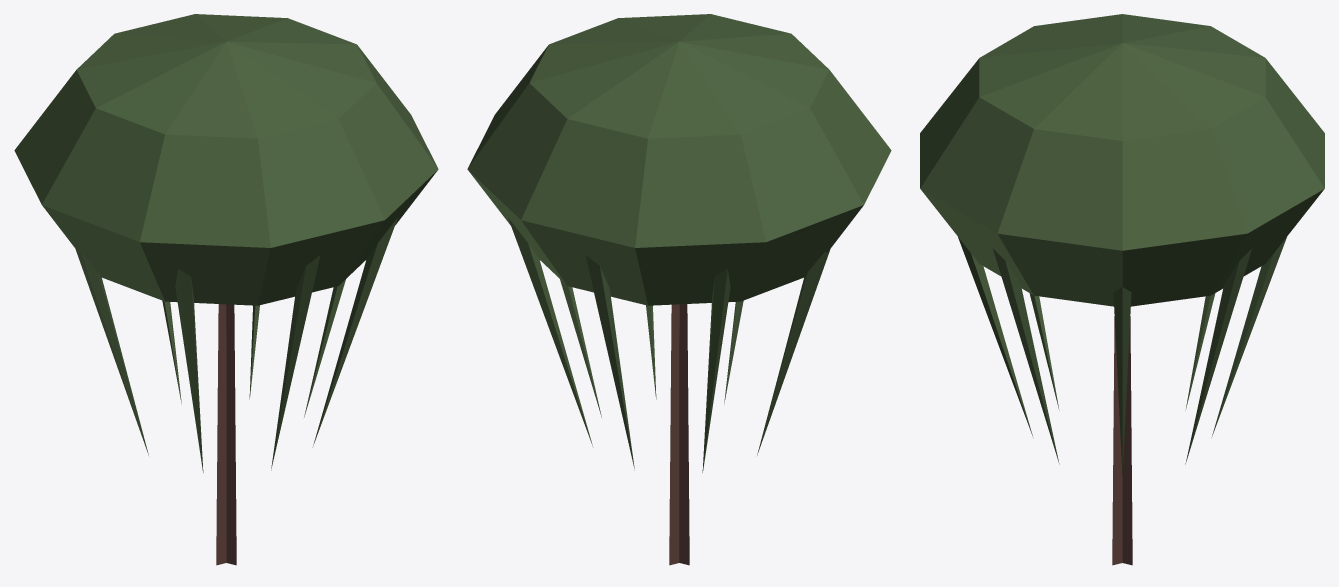
File: weepingtree_1.glb
3 views of the same model, side by side, from view 1: azimuth 30°, elevation 25°; view 2: azimuth 150°, elevation 25°; view 3: azimuth 270°, elevation 25° (orthographic).
Parts seen in each view (by area): view 1: WeepingTree_1; view 2: WeepingTree_1; view 3: WeepingTree_1.
Boxes of the visible parts, left/top/right/bottom form: WeepingTree_1: left=14, top=14, right=438, bottom=565; WeepingTree_1: left=467, top=14, right=891, bottom=565; WeepingTree_1: left=920, top=14, right=1324, bottom=565.
Bounding box in the file's own units: 1.8 × 2.45 × 1.71.
